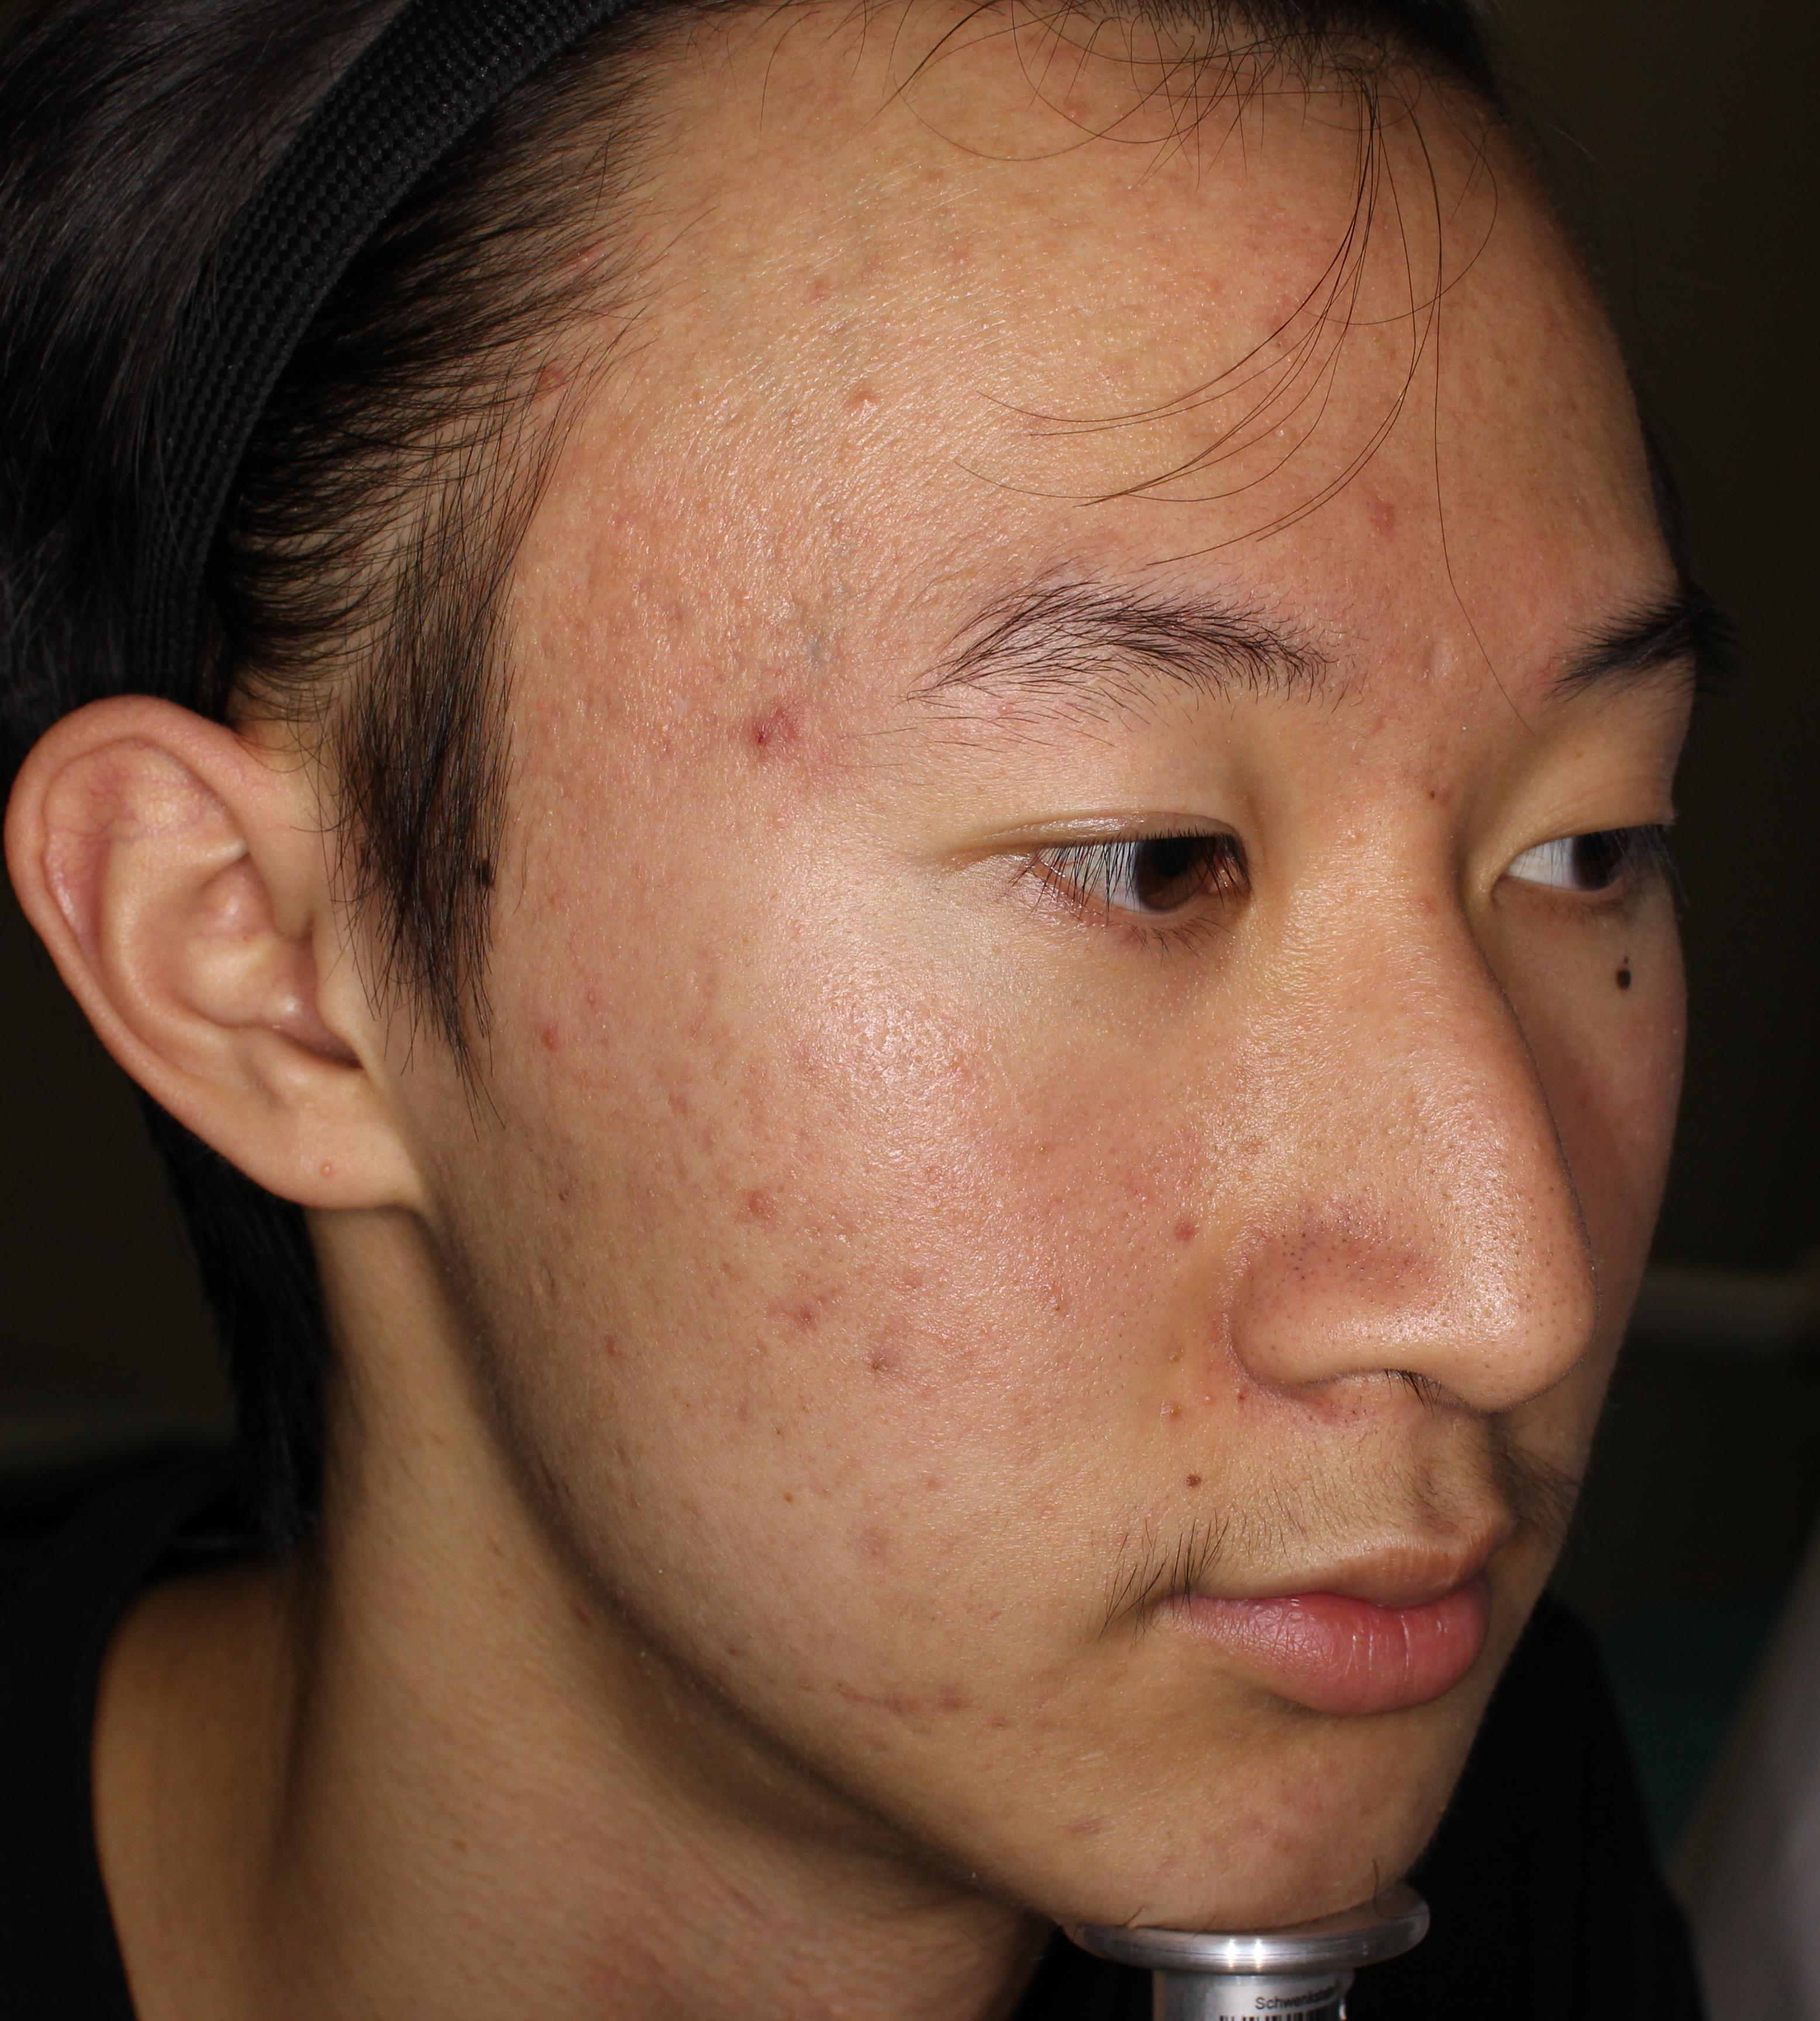fore: (736, 653, 820, 792), (1354, 478, 1441, 576), (771, 1257, 849, 1356), (710, 1159, 808, 1231), (817, 1496, 898, 1580), (803, 1652, 880, 1733), (840, 1320, 915, 1392), (906, 1649, 970, 1728)
